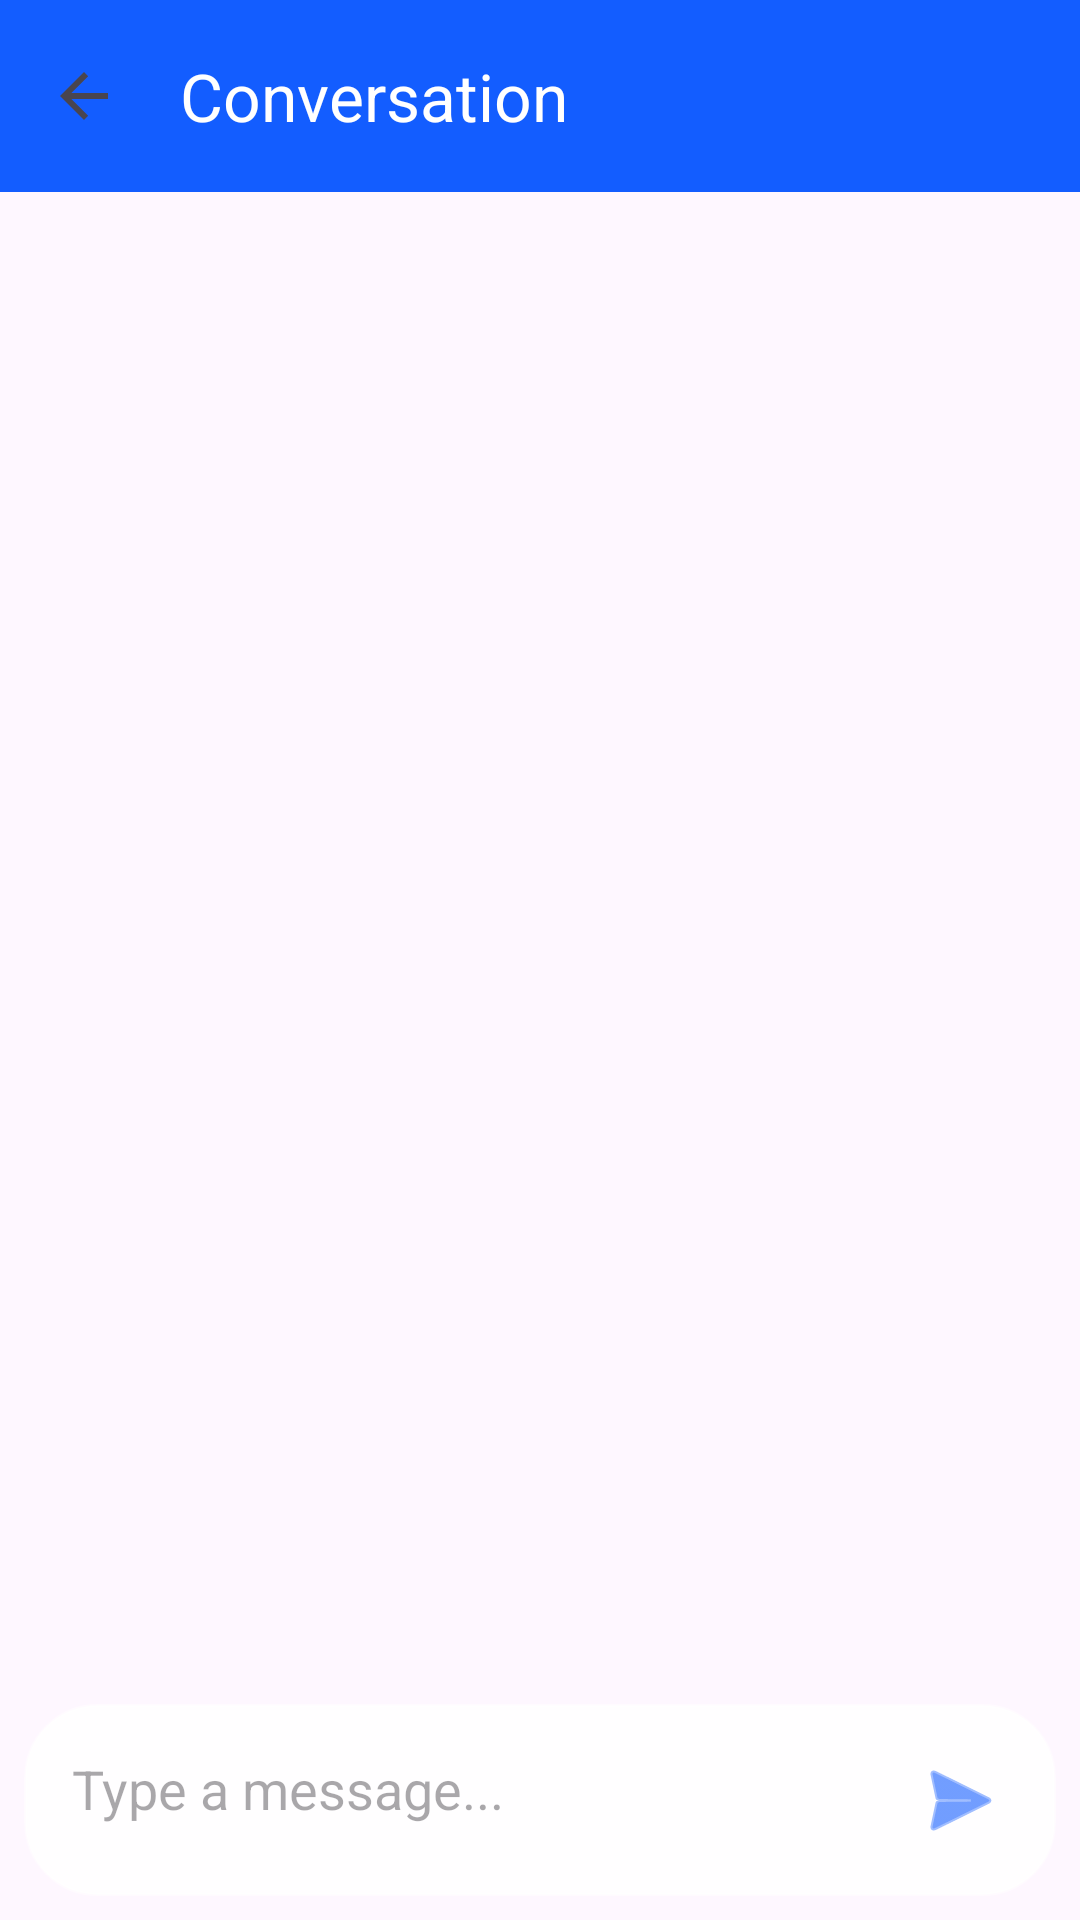

Icon bounding boxes for this 1080×1920 phone screenshot, format [left=x1, top=y1, right=x2, bottom=y2]:
Send message: [left=930, top=1770, right=992, bottom=1831]
